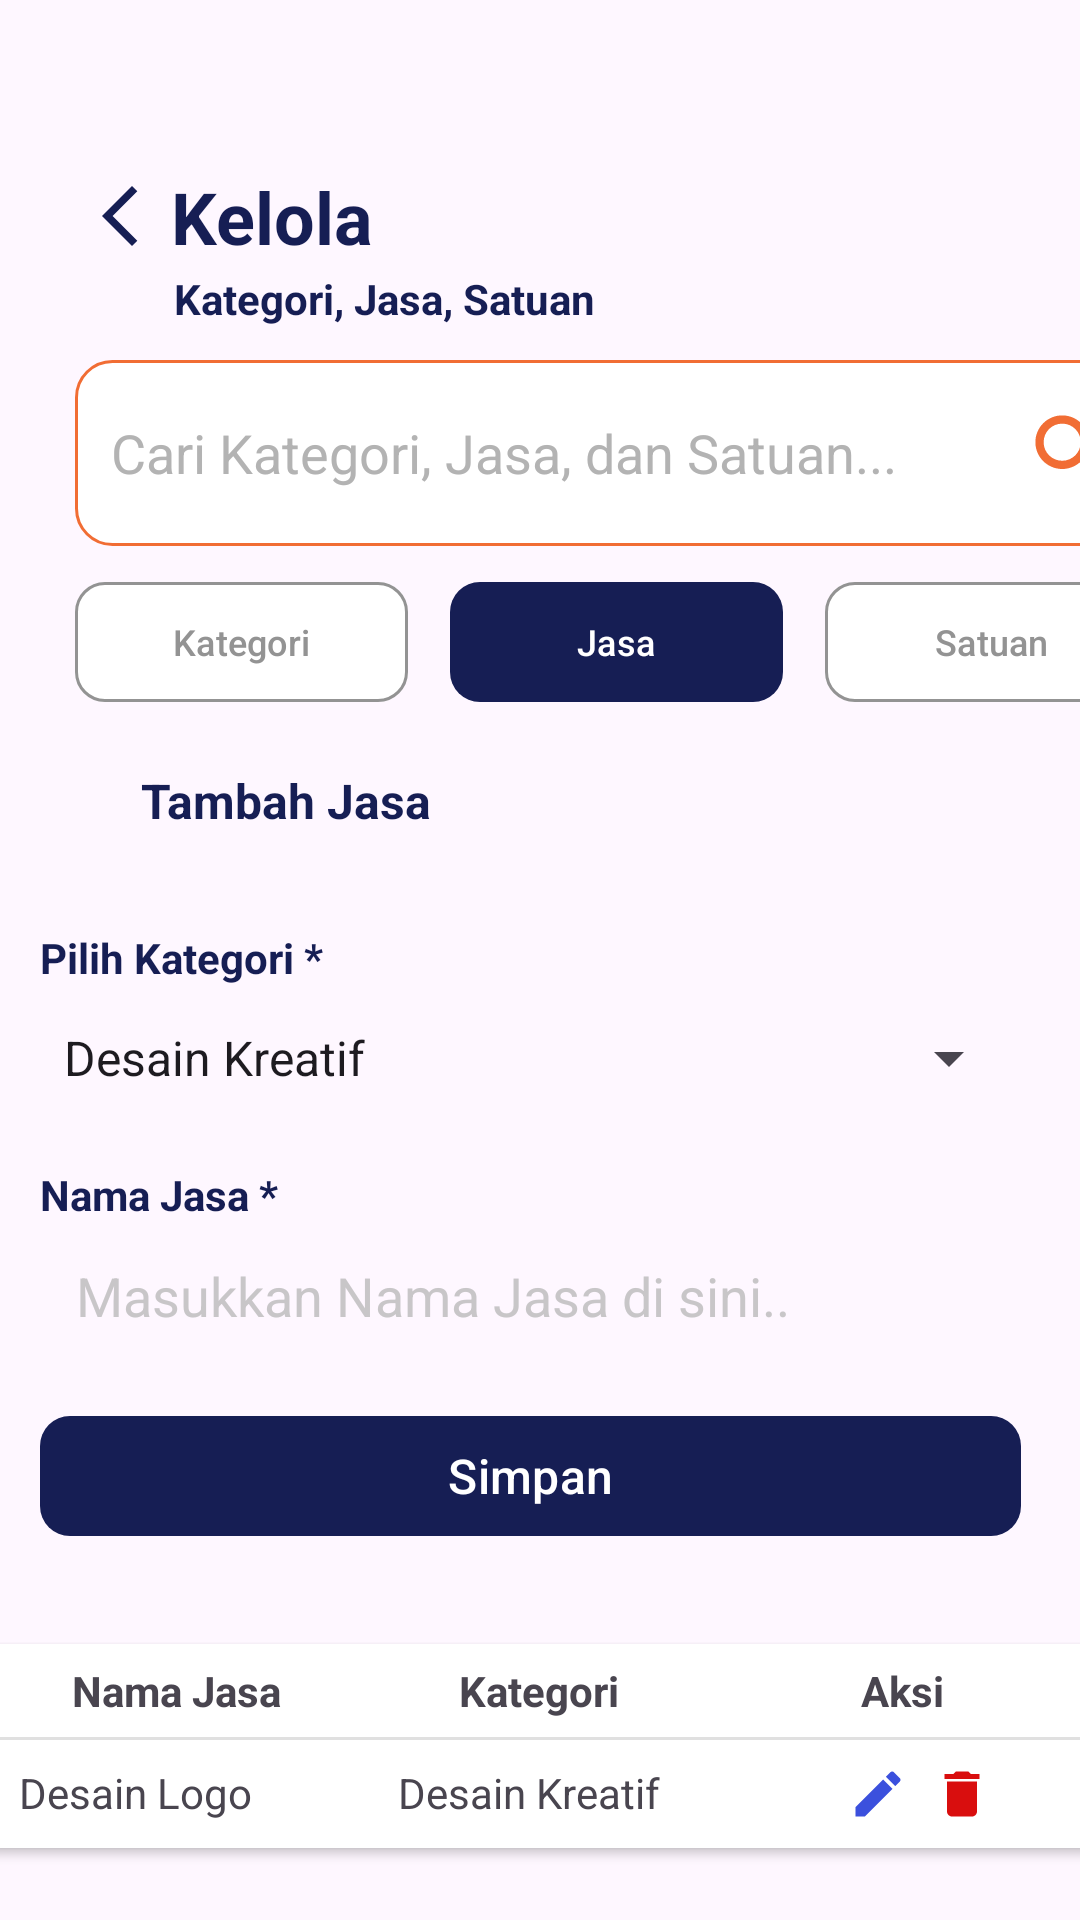

Icon click points for this 1080x1920 phone screenshot, format point (x, y):
delete action: point (962, 1794)
edit: point (878, 1794)
